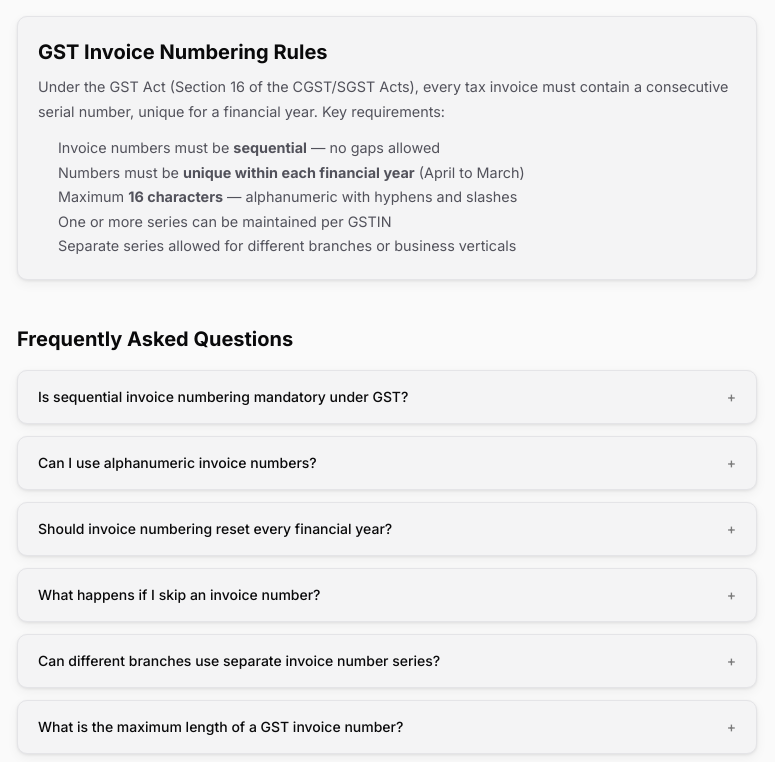
Scenario: InvoiceNumberGeneratorPage › toggles FAQ answer on click
The image size is (775, 762).
(page scrolled)
Click the button "Is sequential invoice numbering mandatory under GST?": (387, 397) x1=18 y1=371 x2=756 y2=423
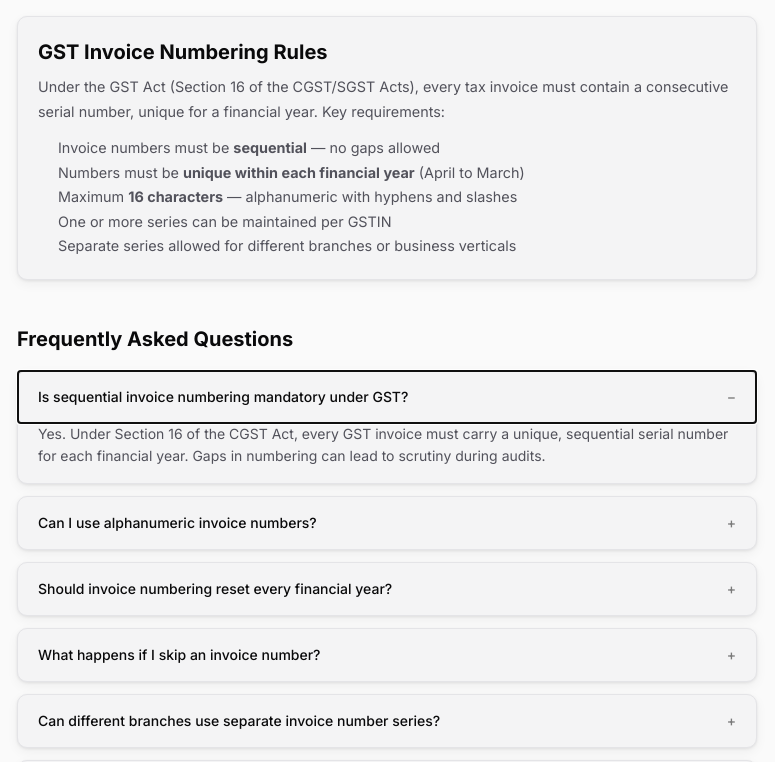
Now the text "Under Section 16 of the CGST Act" is shown, box x1=38 y1=425 x2=728 y2=464
